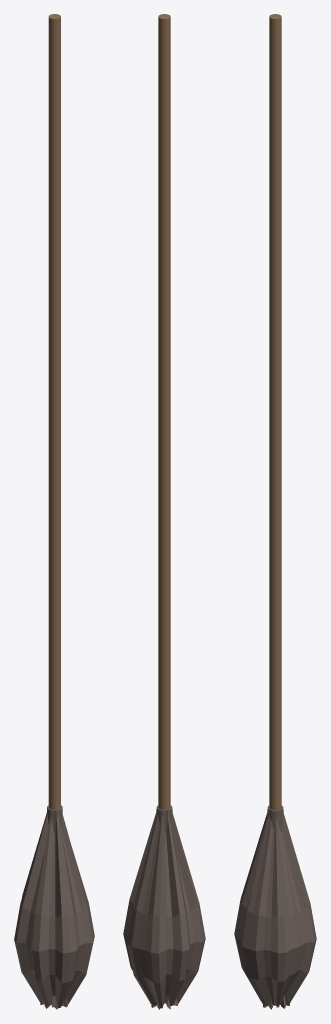
The model's file is Mop.glb.
3 renders of one model, left to right at view 1: azimuth 90°, elevation 25°; view 2: azimuth 150°, elevation 25°; view 3: azimuth 330°, elevation 25°, orthographic.
Visible parts, largest first — view 1: Cylinder.001, Cylinder; view 2: Cylinder.001, Cylinder; view 3: Cylinder.001, Cylinder.
Boxes of the visible parts, box(x1,y1,x2,y2) form: Cylinder.001: box(14, 805, 94, 1009); Cylinder: box(48, 14, 60, 809); Cylinder.001: box(123, 805, 205, 1009); Cylinder: box(158, 14, 170, 809); Cylinder.001: box(234, 806, 316, 1009); Cylinder: box(269, 14, 281, 809).
Size of the model in its own units: 0.167 by 2.23 by 0.1654.
